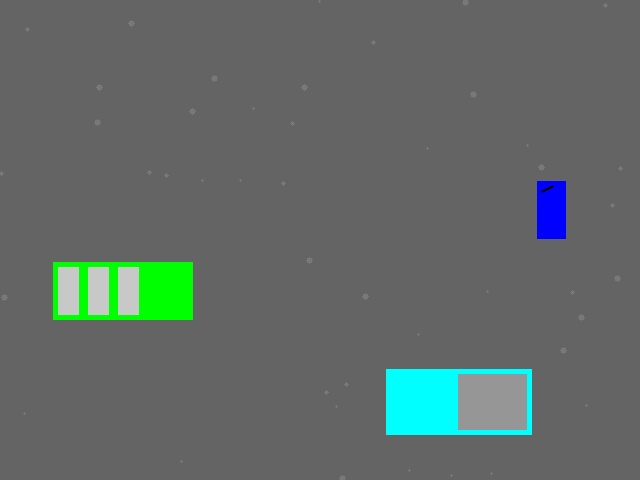bus: (53, 262, 192, 319)
motorcycle: (537, 181, 565, 238)
truck: (386, 369, 531, 434)
